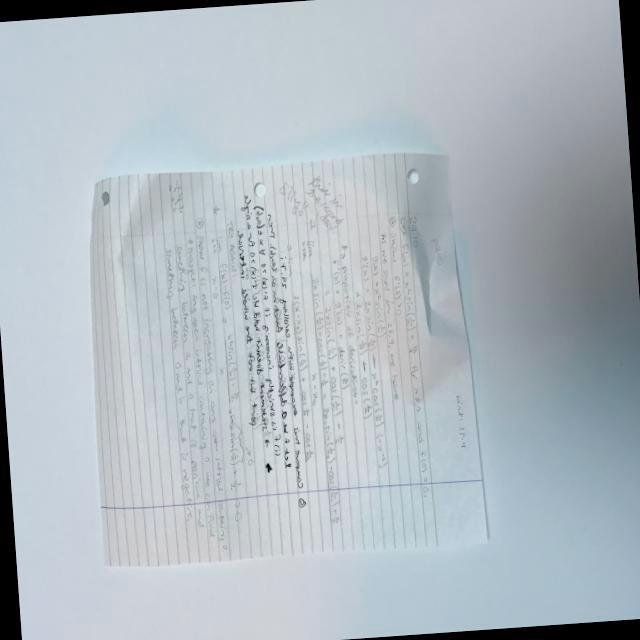paper: (73, 149, 489, 571)
